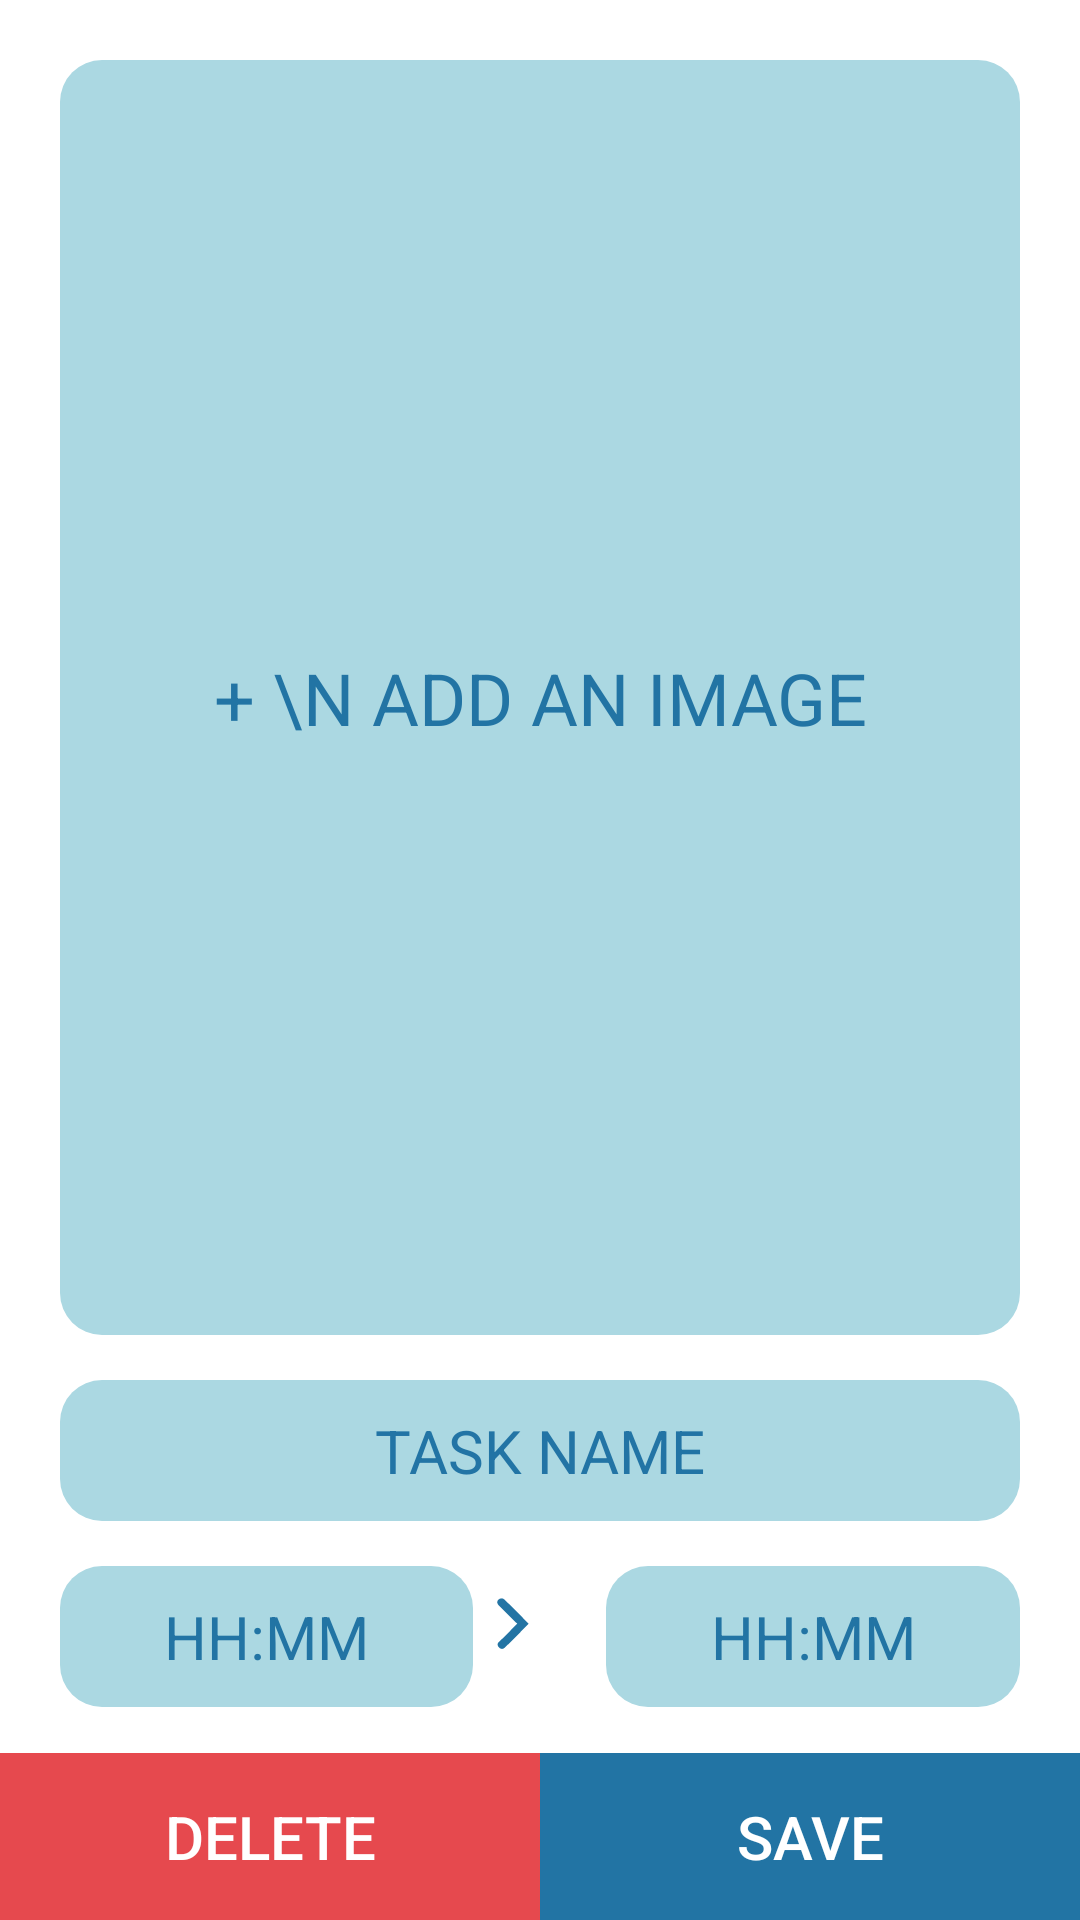

Screen size 1080×1920. Icon name, then its center in pixels as (x,y):
fleche content: (513,1623)
